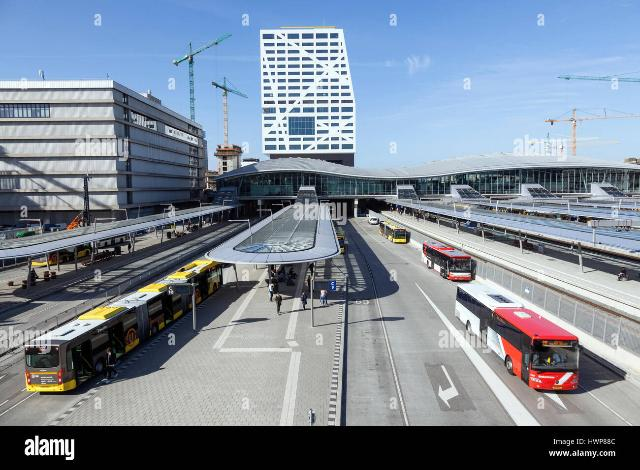bus: (25, 267, 222, 385), (454, 291, 576, 387), (422, 241, 473, 283), (380, 220, 406, 244)
